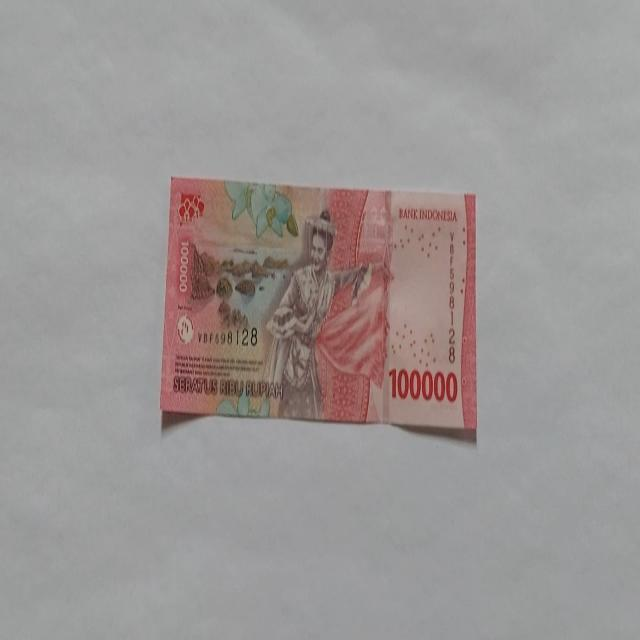seratus ribu rupiah: (158, 176, 478, 439), (260, 208, 370, 420)
